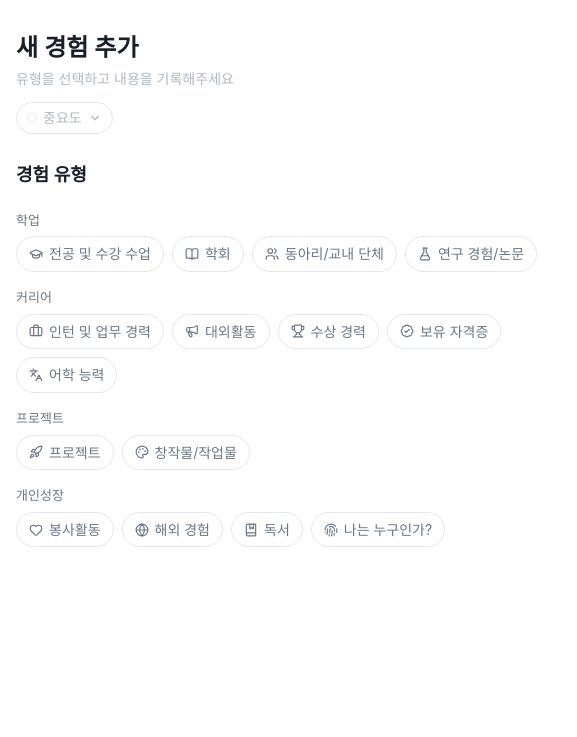
Scenario: FRT-177 섹션 안내 문구 › 대외활동은 활동 상세·미션 기록·활동 증빙 카드에 확정본 안내를 보여준다
Click the button "대외활동". click: click(221, 331)
box: [172, 314, 270, 349]
(page scrolled)
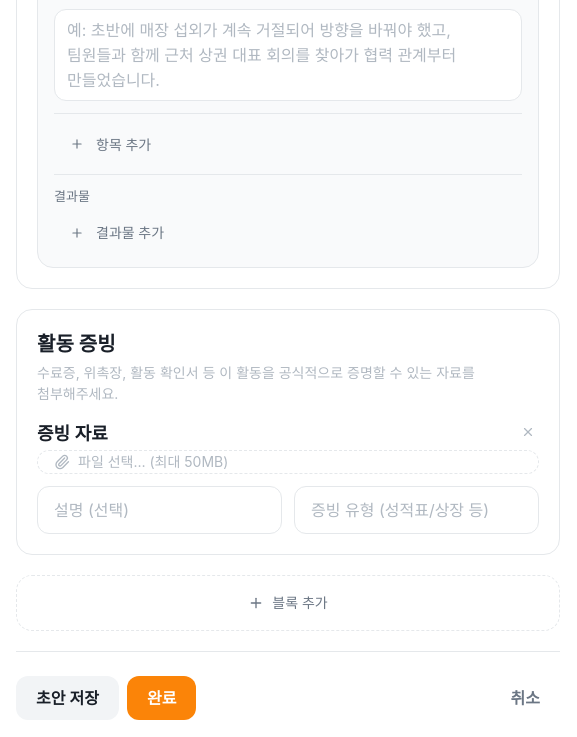
Expected: the text "수료증, 위촉장, 활동 확인서 등 이 활동을 공식적으로 증명할 수 있는 자료를 첨부해주세요." is shown, [37, 362, 539, 405]
